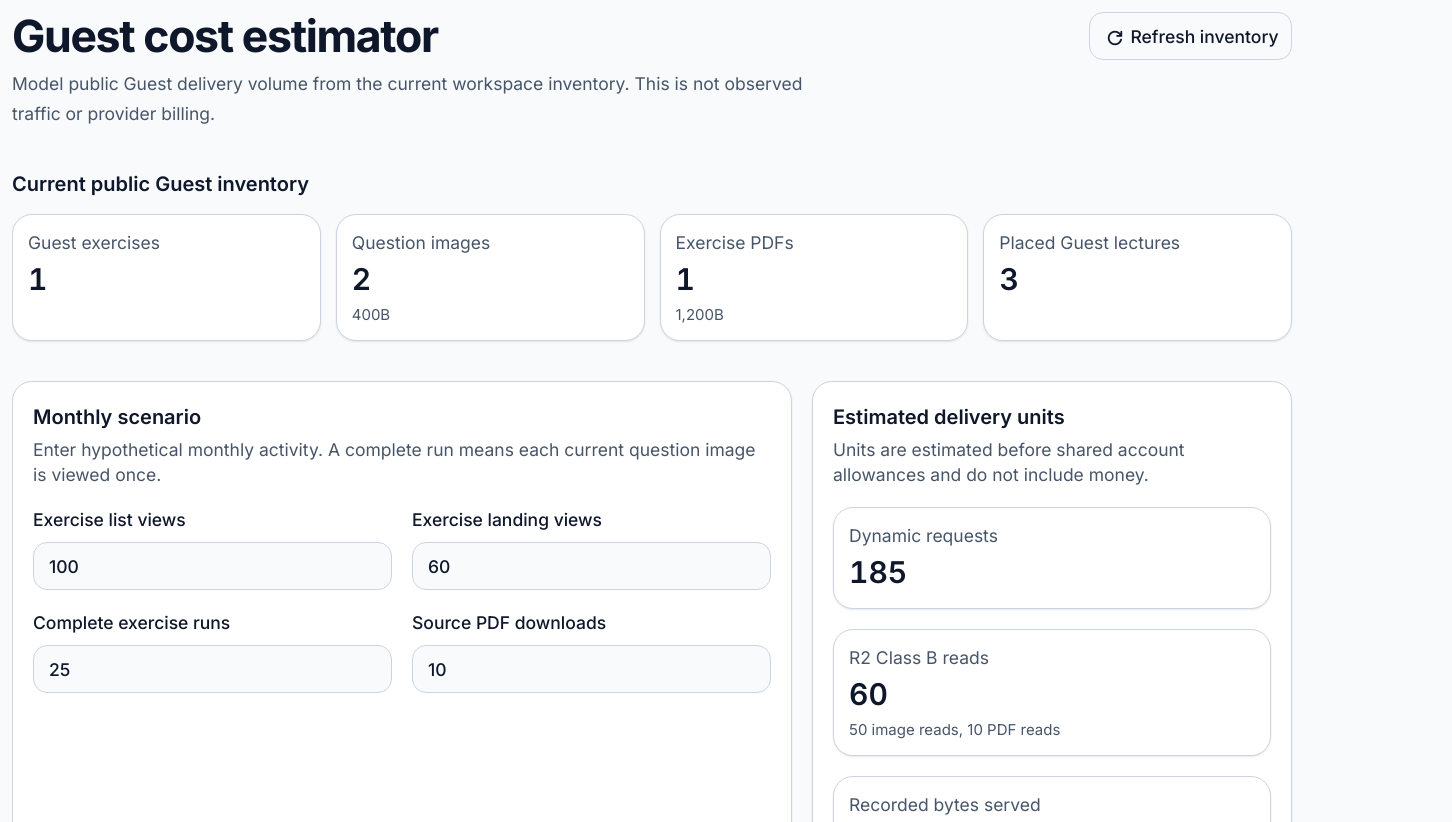
Scenario: TeacherCostDashboardPage › renders inventory and updates scenario estimates
The image size is (1452, 822).
Expected: the text "Placed Guest lectures" is shown, [999, 232, 1180, 253]
Replace the text in the number field labelled "Complete exercise runs" with "5" at (212, 669), box [33, 645, 392, 693]
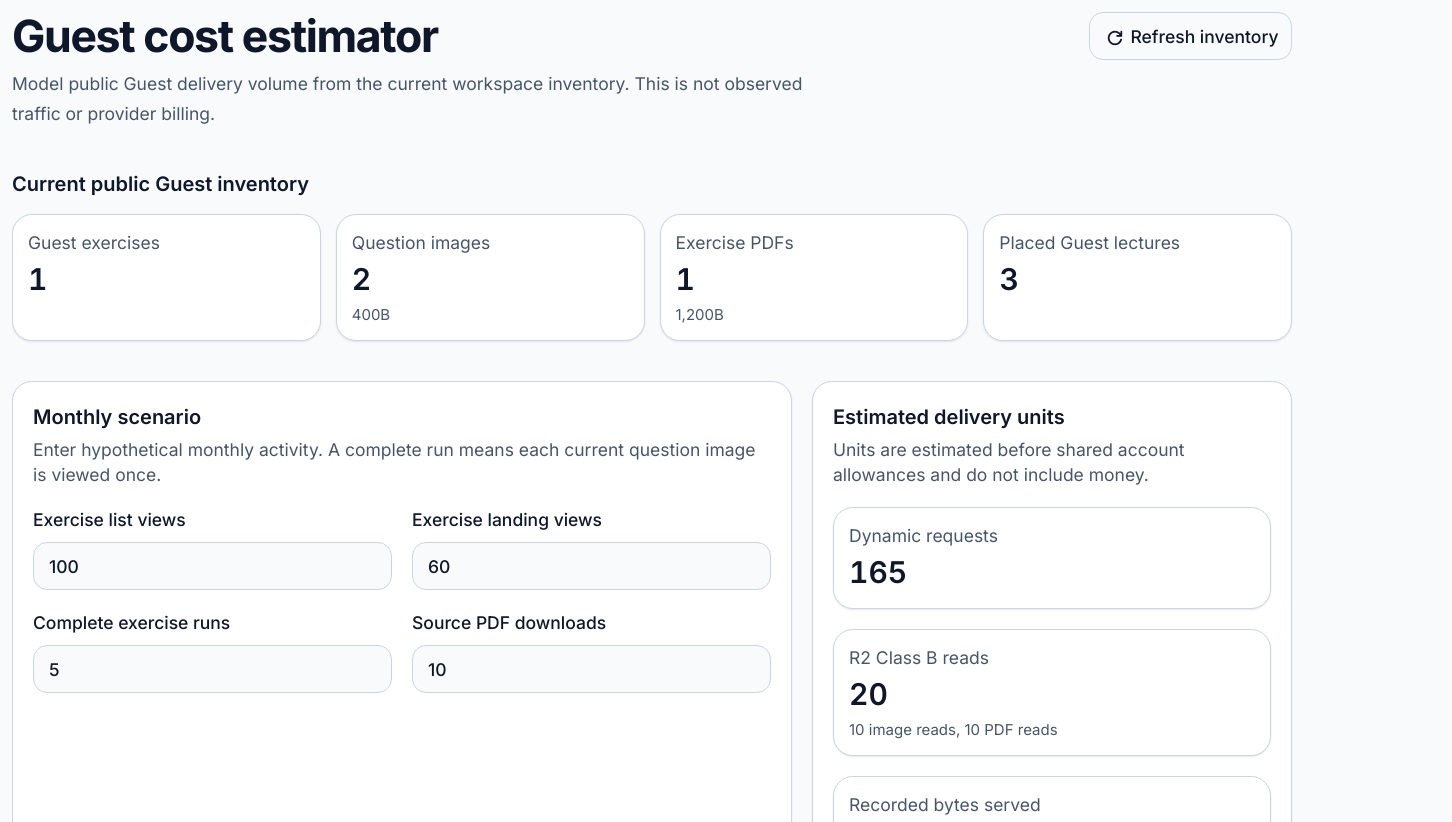
Now the text "10 image reads, 10 PDF reads" is shown, box [849, 720, 1058, 739]
